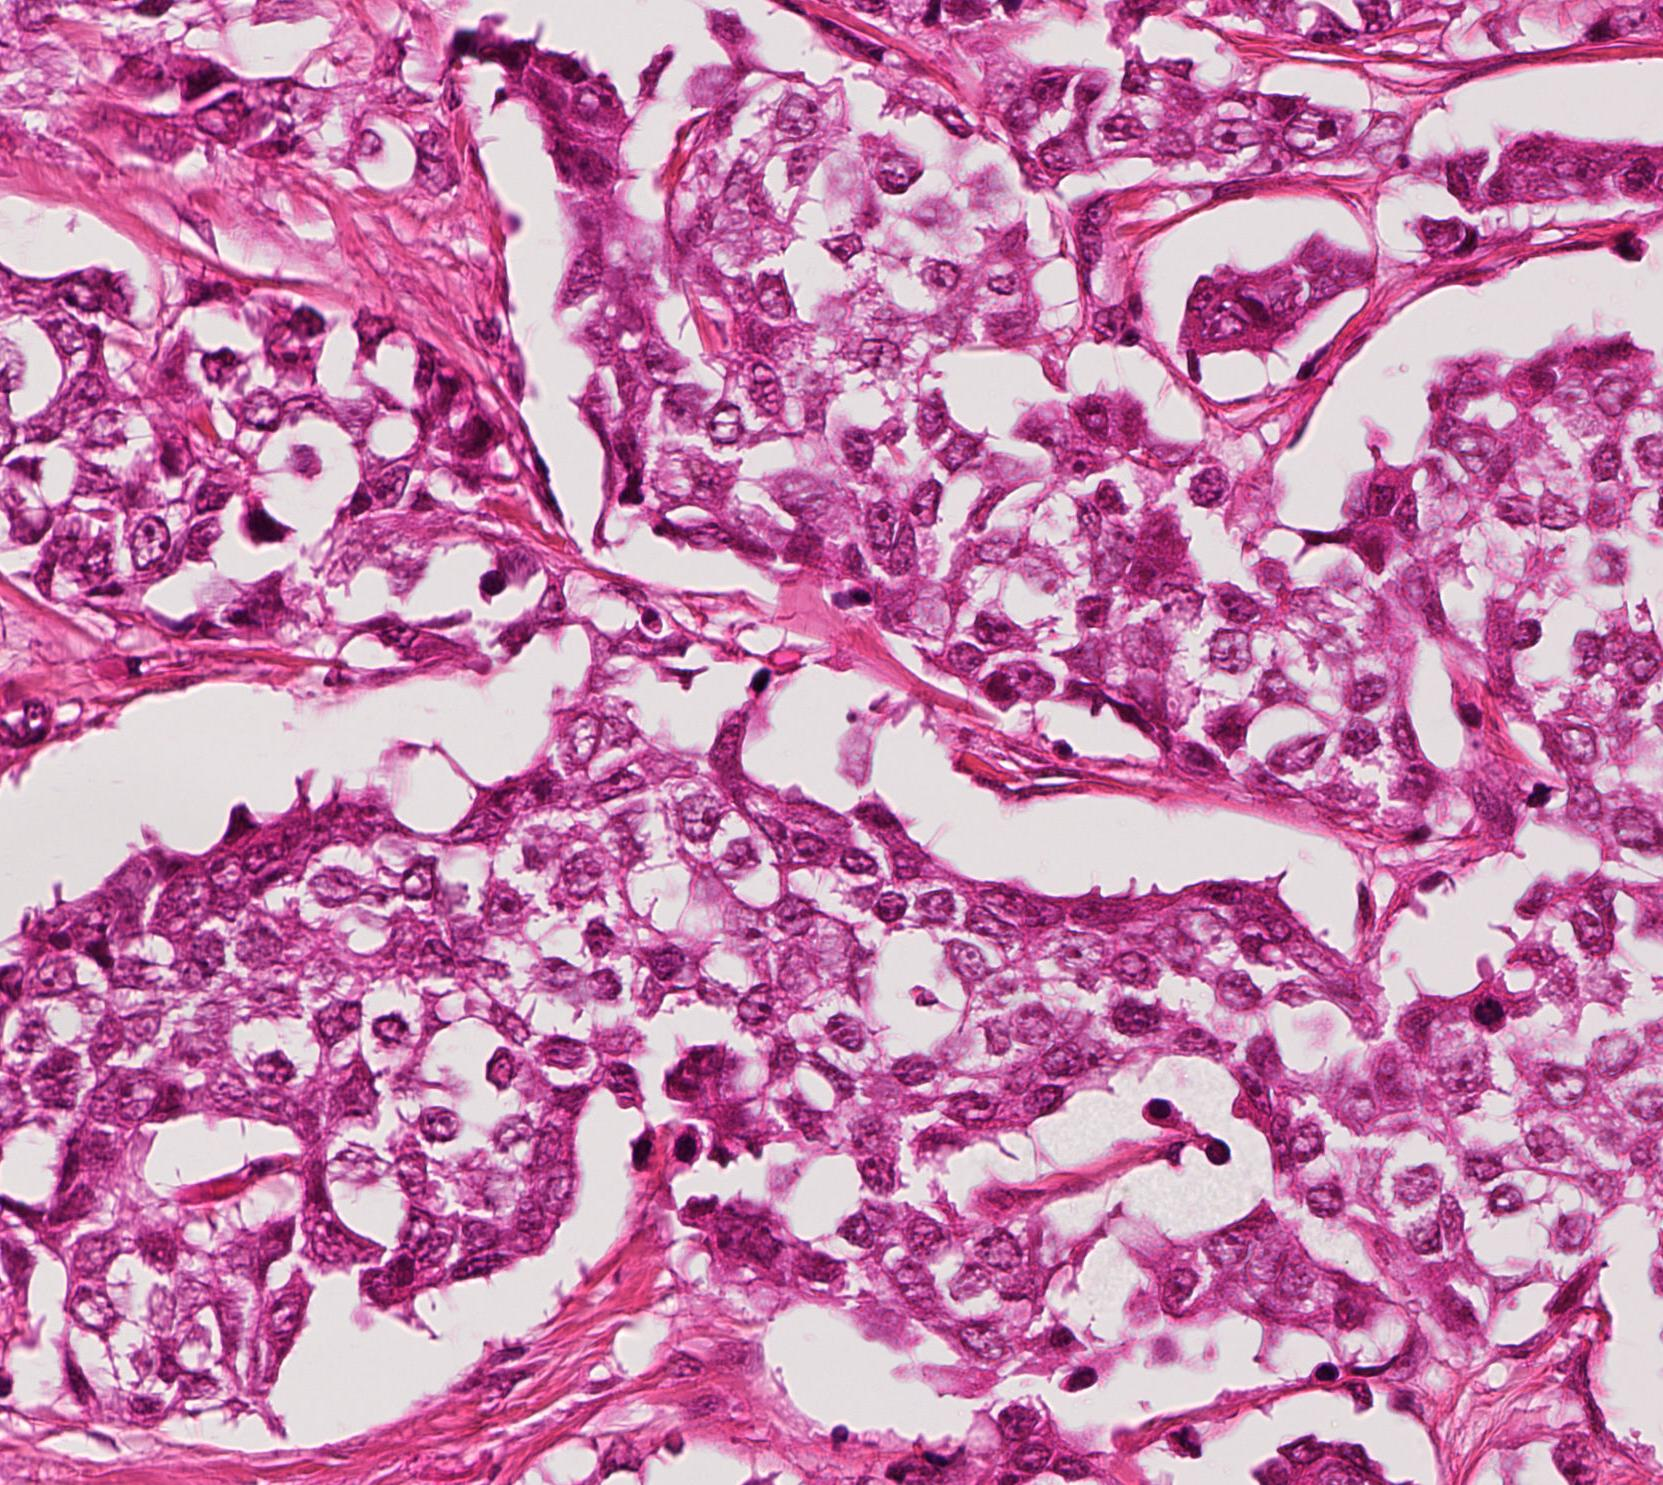mitosis: (1455, 985, 1515, 1045)
